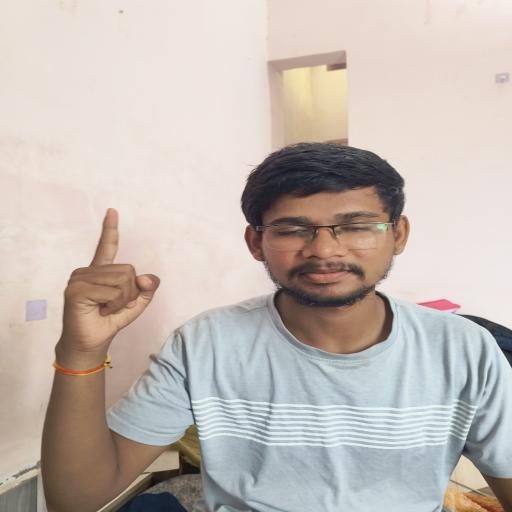What: (44, 199, 189, 372)
